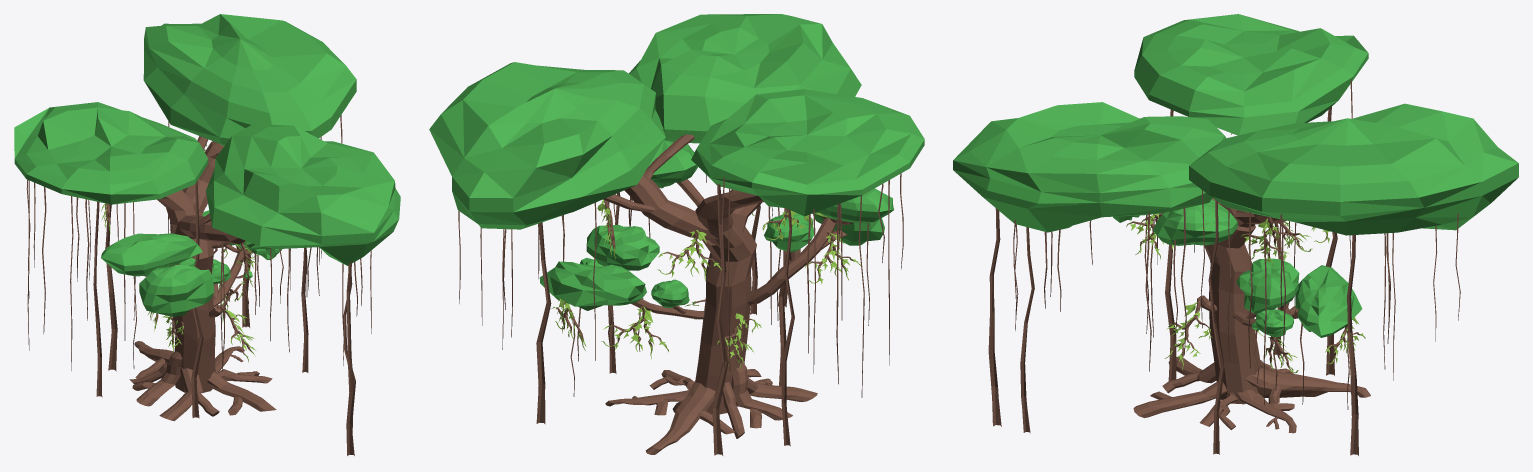
Rendered from banyan.glb.
The picture shows the model from 3 angles, left to right: view 1: azimuth 30°, elevation 25°; view 2: azimuth 150°, elevation 25°; view 3: azimuth 270°, elevation 25°; orthographic projection. The views are drawn at different scales.
Visible parts, largest first — view 1: banyan; view 2: banyan; view 3: banyan.
Boxes of the visible parts, box(x1,y1,x2,y2) form: banyan: box(14, 14, 400, 455); banyan: box(429, 14, 924, 455); banyan: box(953, 14, 1518, 455).
Bounding box in the file's own units: 1.24 × 1 × 1.54.
